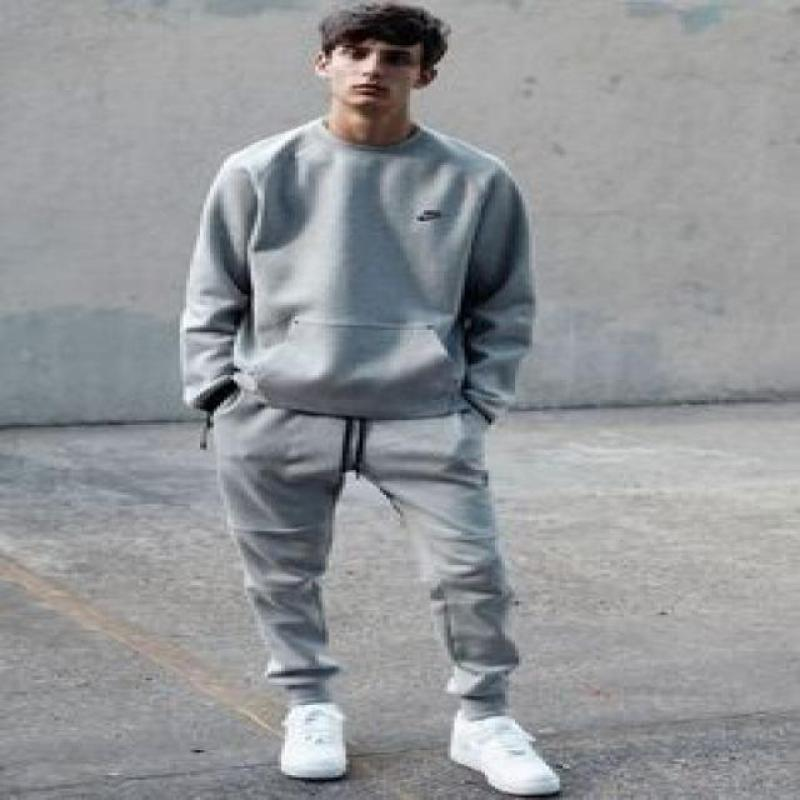sweater: (173, 117, 542, 423)
trousers: (209, 381, 524, 719)
